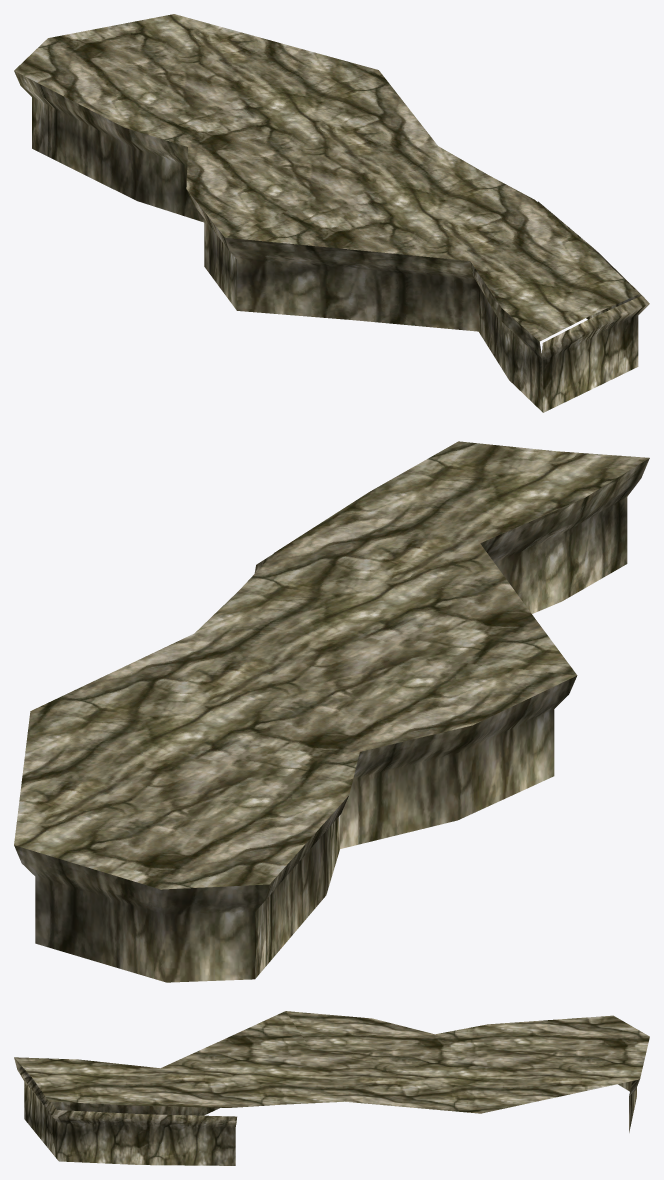
File: CB_NEWPLAYSURFACE_CB_PLAYSURFACE100.fbx
3 renders of one model, top to bottom at view 1: azimuth 30°, elevation 25°; view 2: azimuth 150°, elevation 25°; view 3: azimuth 270°, elevation 25°, orthographic. The views are drawn at different scales.
Parts seen in each view (by area): view 1: CB_NEWPLAYSURFACE_CB_PLAYSURFACE100; view 2: CB_NEWPLAYSURFACE_CB_PLAYSURFACE100; view 3: CB_NEWPLAYSURFACE_CB_PLAYSURFACE100.
Part boxes in pixels (<box>): CB_NEWPLAYSURFACE_CB_PLAYSURFACE100: <box>14,14,649,412</box>; CB_NEWPLAYSURFACE_CB_PLAYSURFACE100: <box>14,441,649,982</box>; CB_NEWPLAYSURFACE_CB_PLAYSURFACE100: <box>14,1011,649,1165</box>.
Bounding box in the file's own units: 109167 × 28693 × 285712.
Materials: 2 (2 with a texture image).
